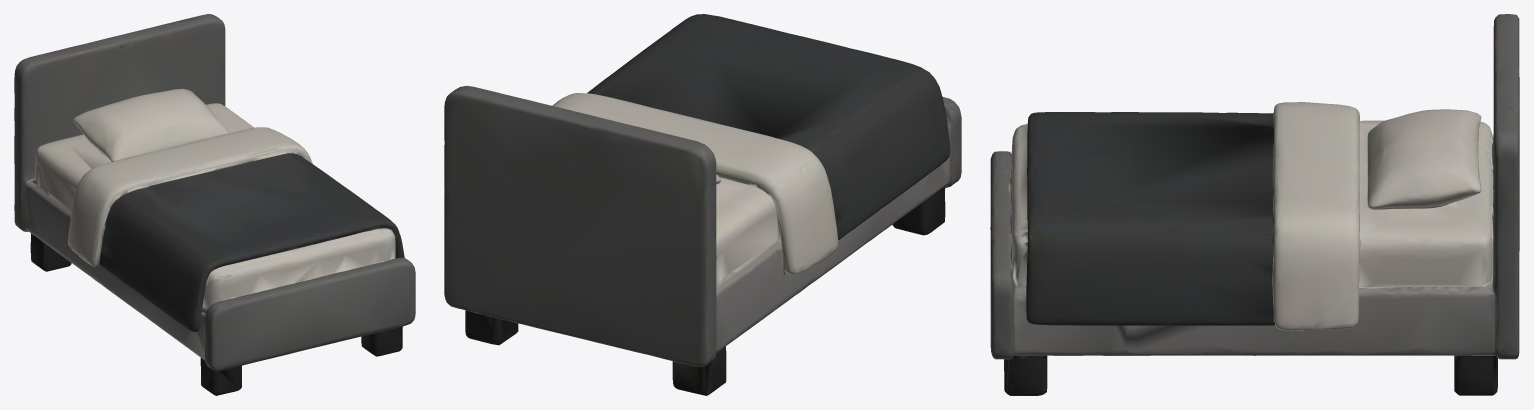
The model's file is single_bed.glb.
The picture shows the model from 3 angles, left to right: view 1: azimuth 30°, elevation 25°; view 2: azimuth 150°, elevation 25°; view 3: azimuth 270°, elevation 25°; orthographic projection. The views are drawn at different scales.
Visible parts, largest first — view 1: geometry_0; view 2: geometry_0; view 3: geometry_0.
Boxes of the visible parts, box(x1,y1,x2,y2) form: geometry_0: box(14, 14, 415, 395); geometry_0: box(444, 14, 961, 395); geometry_0: box(990, 14, 1519, 395).
Size of the model in its own units: 0.6643 by 0.5507 by 1.
Materials: 1 (1 with a texture image).
